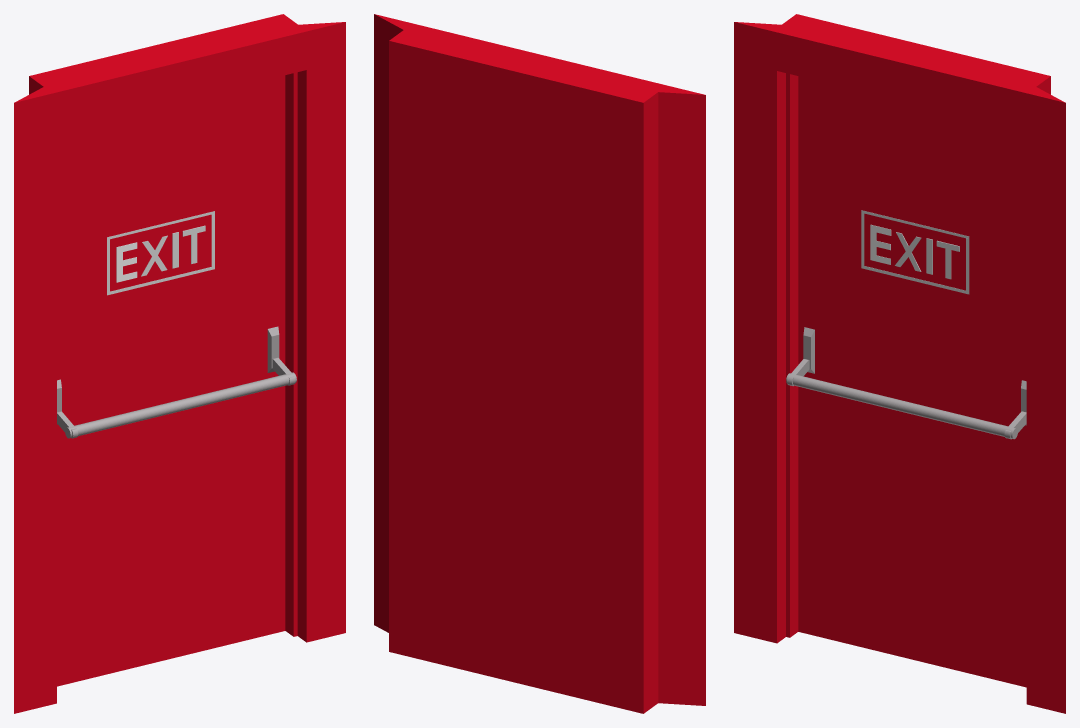
File: ExitDoor 1.fbx
The picture shows the model from 3 angles, left to right: view 1: azimuth 30°, elevation 25°; view 2: azimuth 150°, elevation 25°; view 3: azimuth 330°, elevation 25°; orthographic projection.
Visible parts, largest first — view 1: Cube, Cylinder, Cube.003, Cube.004; view 2: Cube; view 3: Cube, Cylinder, Cube.003, Cube.004.
Part boxes in pixels (x1,y1,x2,y2): Cube: [14, 14, 345, 713]; Cylinder: [57, 357, 296, 438]; Cube.003: [107, 211, 214, 295]; Cube.004: [116, 242, 137, 282]; Cube: [374, 14, 705, 713]; Cube: [734, 14, 1065, 713]; Cylinder: [786, 359, 1026, 439]; Cube.003: [861, 210, 969, 294]; Cube.004: [870, 224, 891, 264].
Size of the model in its own units: 114 by 200 by 15.9.
